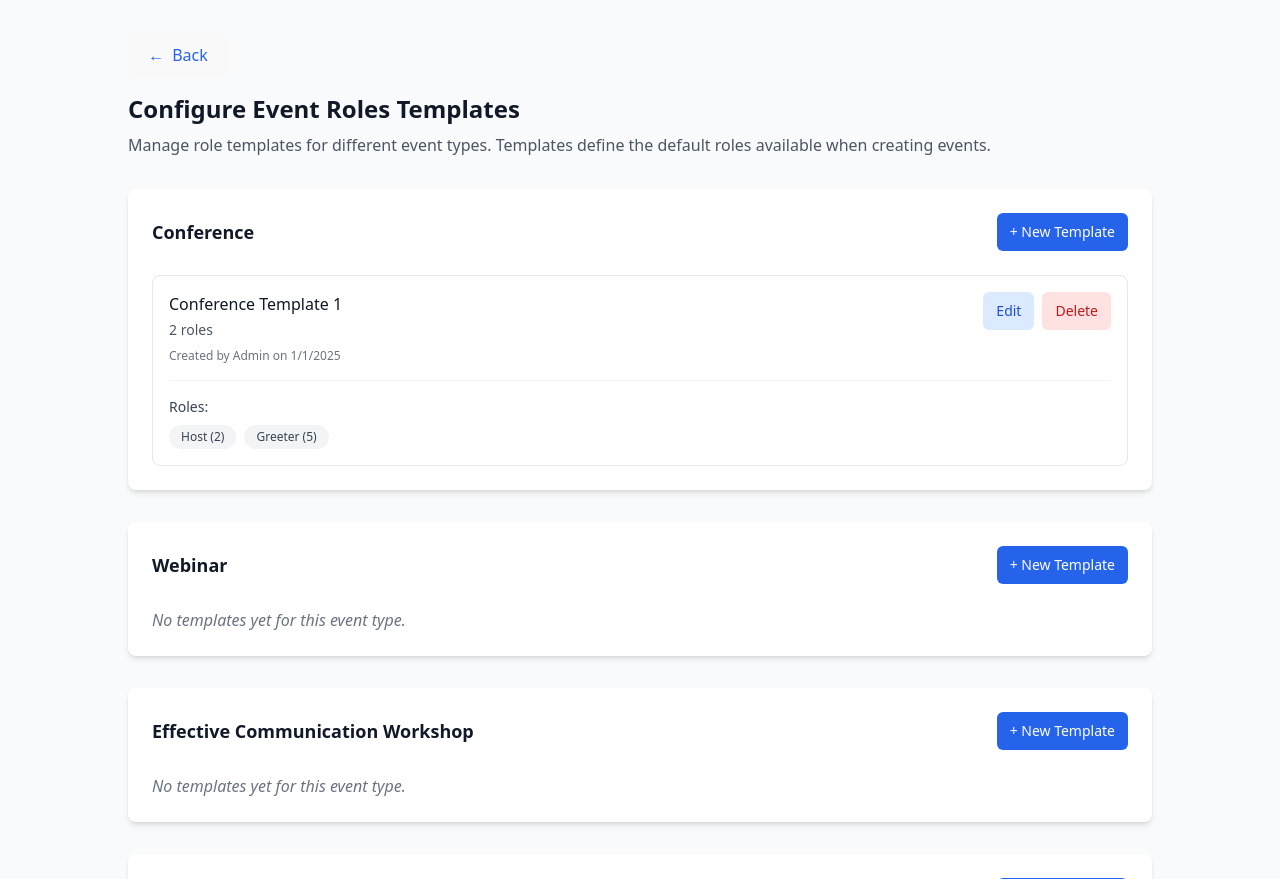
Test: ConfigureRolesTemplates page › opens and confirms delete modal for a template
Check: the heading "Conference Template 1" is shown, box [169, 293, 342, 315]
Click the button "Delete" at (1077, 311), box [1042, 292, 1111, 330]
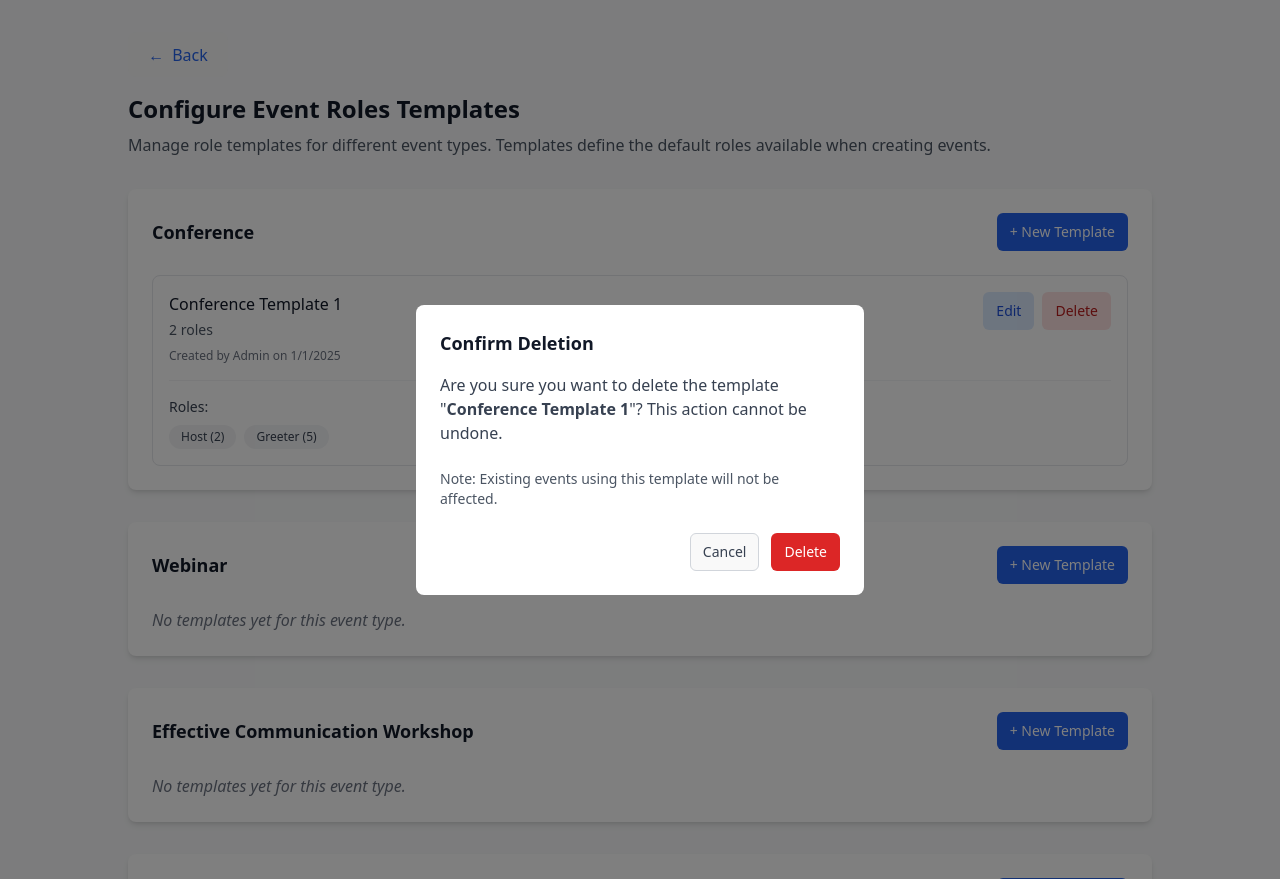
Check: the text "Confirm Deletion" is shown, box [440, 331, 594, 355]
Click the button "Delete" at (806, 552), box [771, 533, 840, 571]
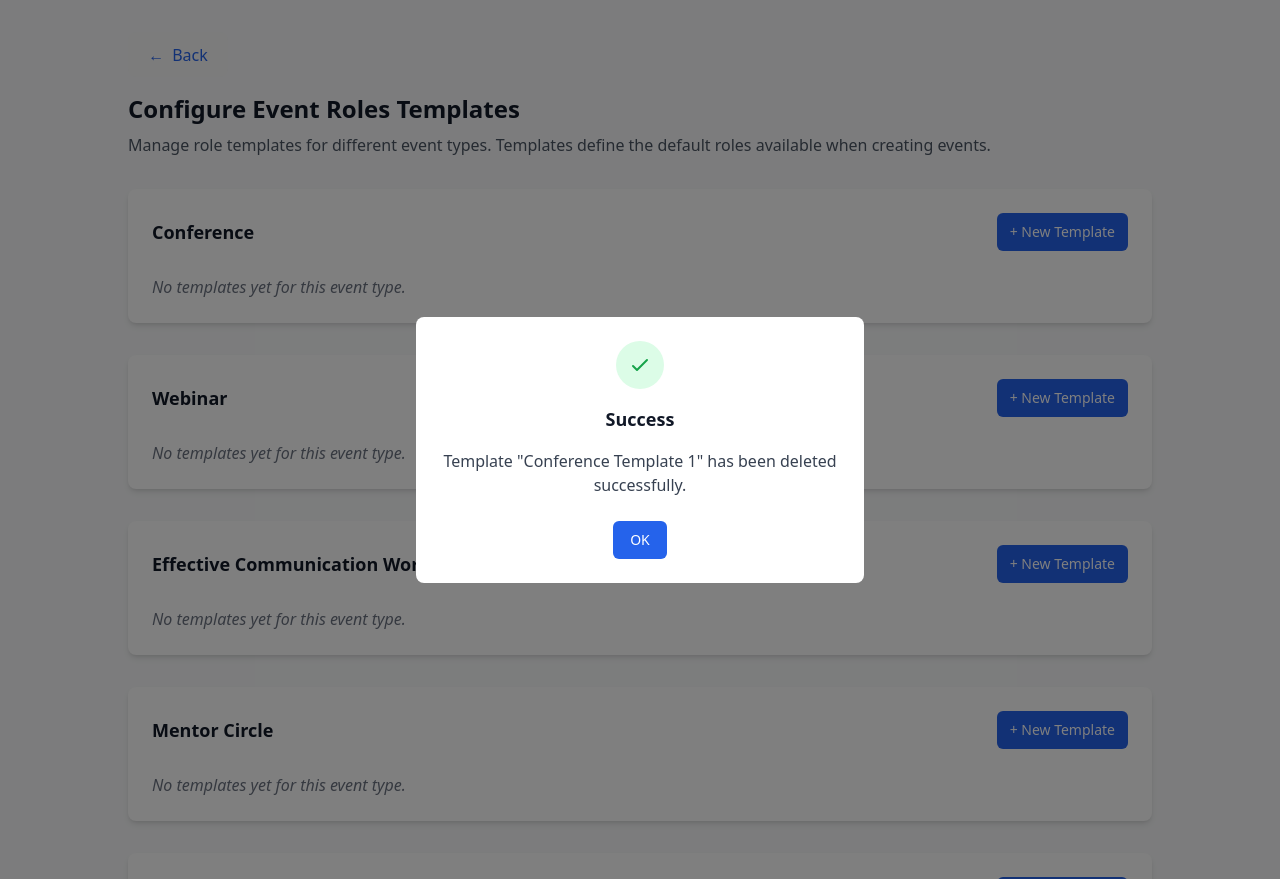
Check: the text "has been deleted successfully" is shown, box [443, 450, 837, 496]
